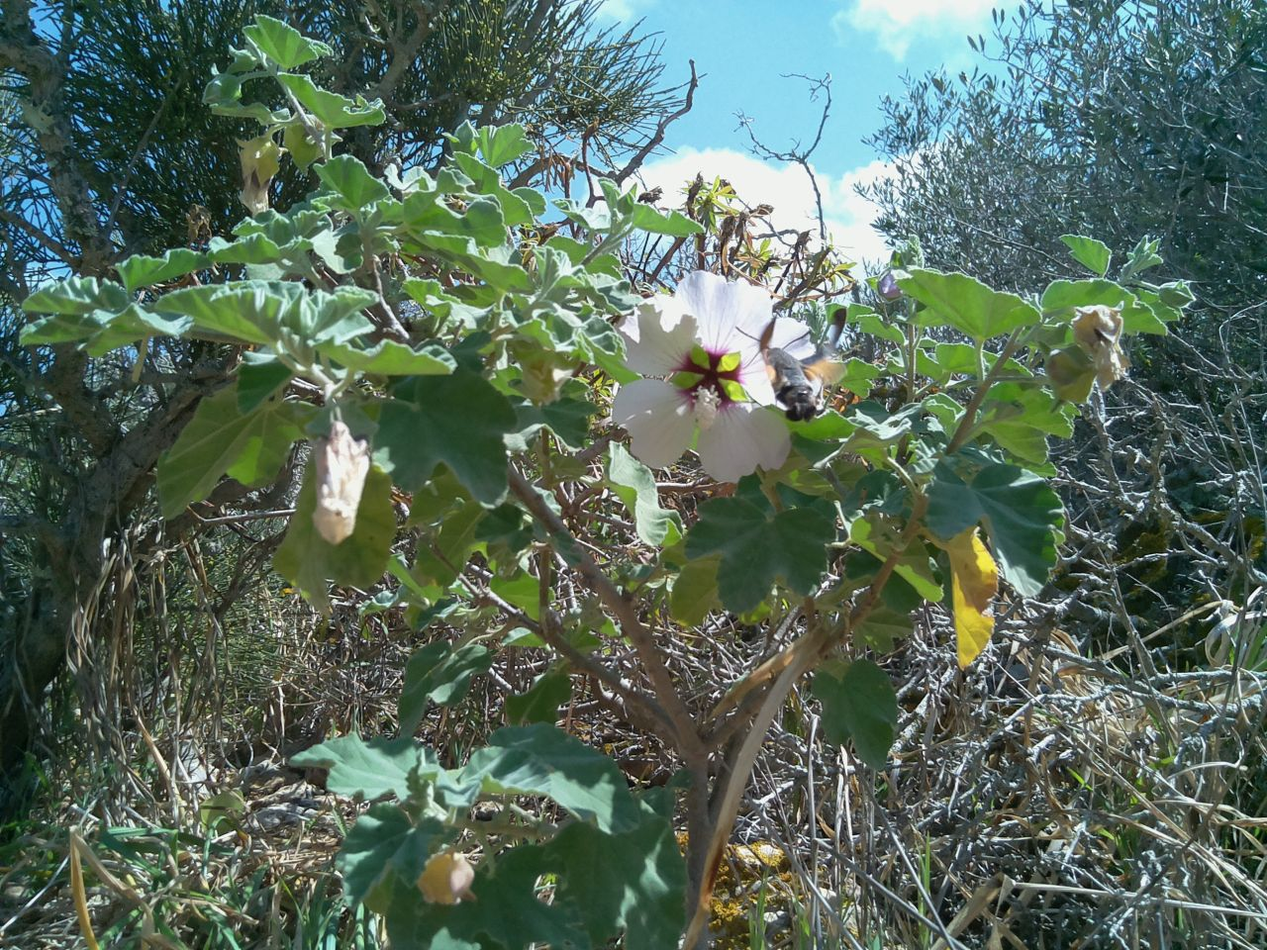Butterfly: (723, 299, 865, 429)
